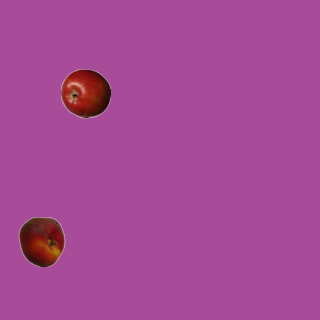Apple Braeburn: (60, 68, 110, 118)
Nectarine Flat: (16, 216, 66, 266)
